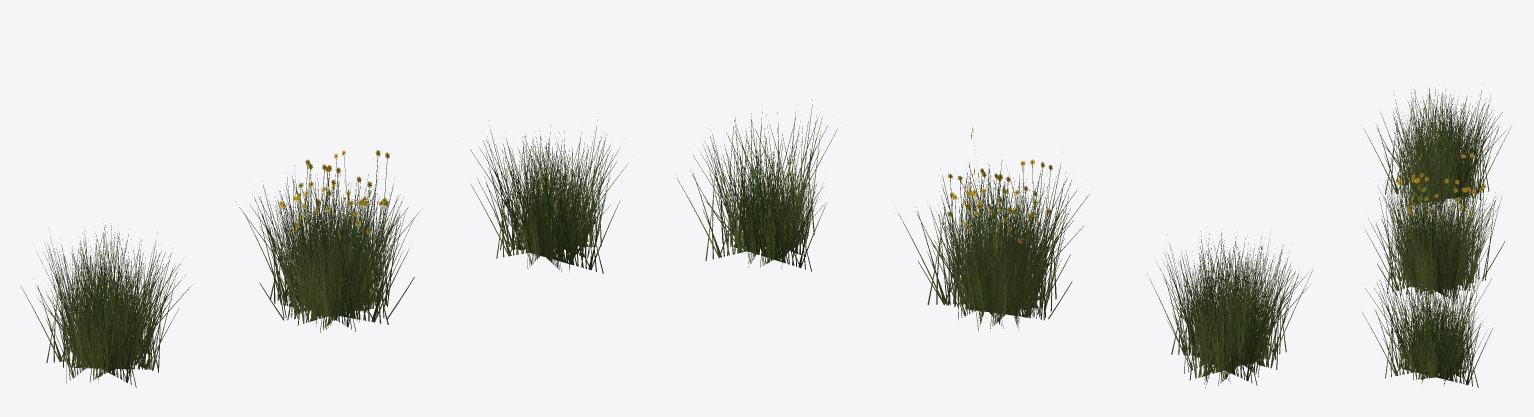
File: grass.glb
The picture shows the model from 3 angles, left to right: view 1: azimuth 30°, elevation 25°; view 2: azimuth 150°, elevation 25°; view 3: azimuth 270°, elevation 25°; orthographic projection. The views are drawn at different scales.
Visible parts, largest first — view 1: grass_grass; view 2: grass_grass; view 3: grass_grass.
Part boxes in pixels (box(x1,y1,x2,y2)): grass_grass: box(20, 120, 627, 387); grass_grass: box(675, 100, 1312, 388); grass_grass: box(1362, 83, 1511, 387).
Bounding box in the file's own units: 2.73 × 0.8709 × 0.7961.
1 material, 1 textured.
